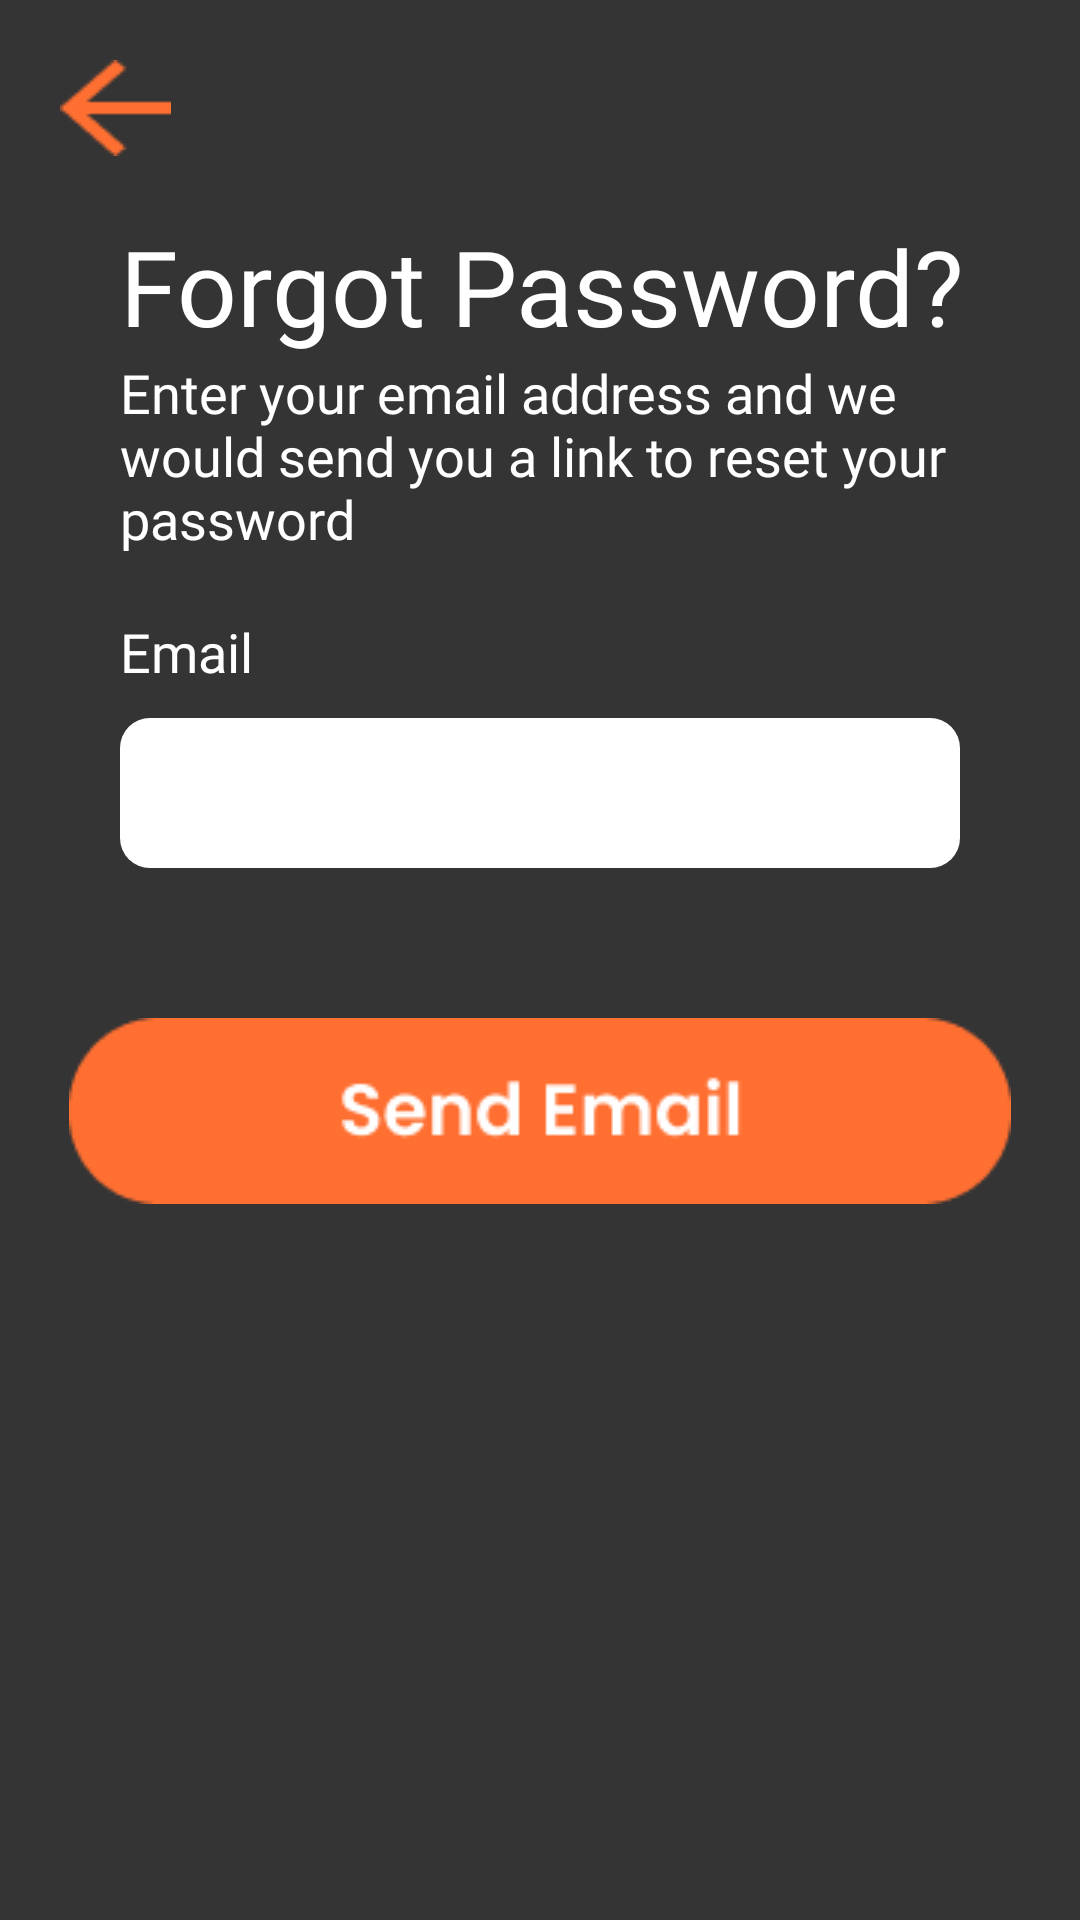

Icon bounding boxes for this 1080*1920 phone screenshot, format [x1=x1, y1=y1, x2=x2, y2=y2]:
back: [x1=60, y1=60, x2=171, y2=156]
